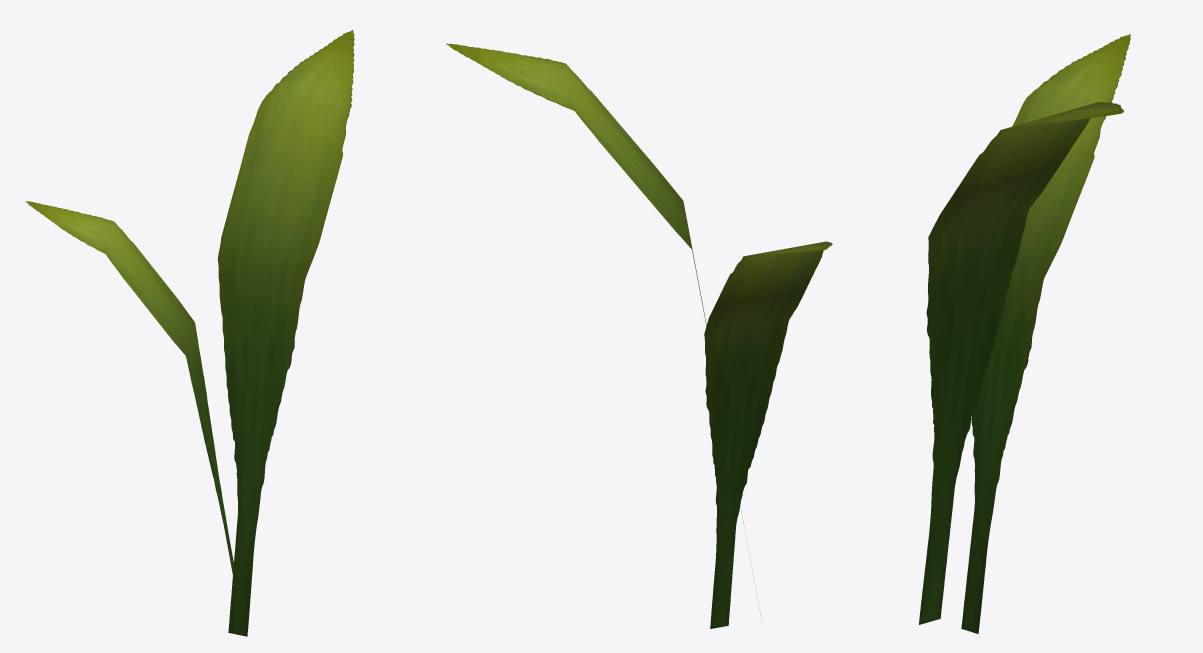
Rendered from plant_yewai_caocong03.FBX.
The picture shows the model from 3 angles, left to right: view 1: azimuth 30°, elevation 25°; view 2: azimuth 150°, elevation 25°; view 3: azimuth 270°, elevation 25°; orthographic projection. The views are drawn at different scales.
Parts seen in each view (by area): view 1: plant_yewai_caocong03; view 2: plant_yewai_caocong03; view 3: plant_yewai_caocong03.
Part boxes in pixels (left/top/right/bottom): plant_yewai_caocong03: left=25, top=30, right=354, bottom=636; plant_yewai_caocong03: left=446, top=43, right=832, bottom=628; plant_yewai_caocong03: left=919, top=34, right=1130, bottom=633.
Bounding box in the file's own units: 3.12 × 3.9 × 1.59.
